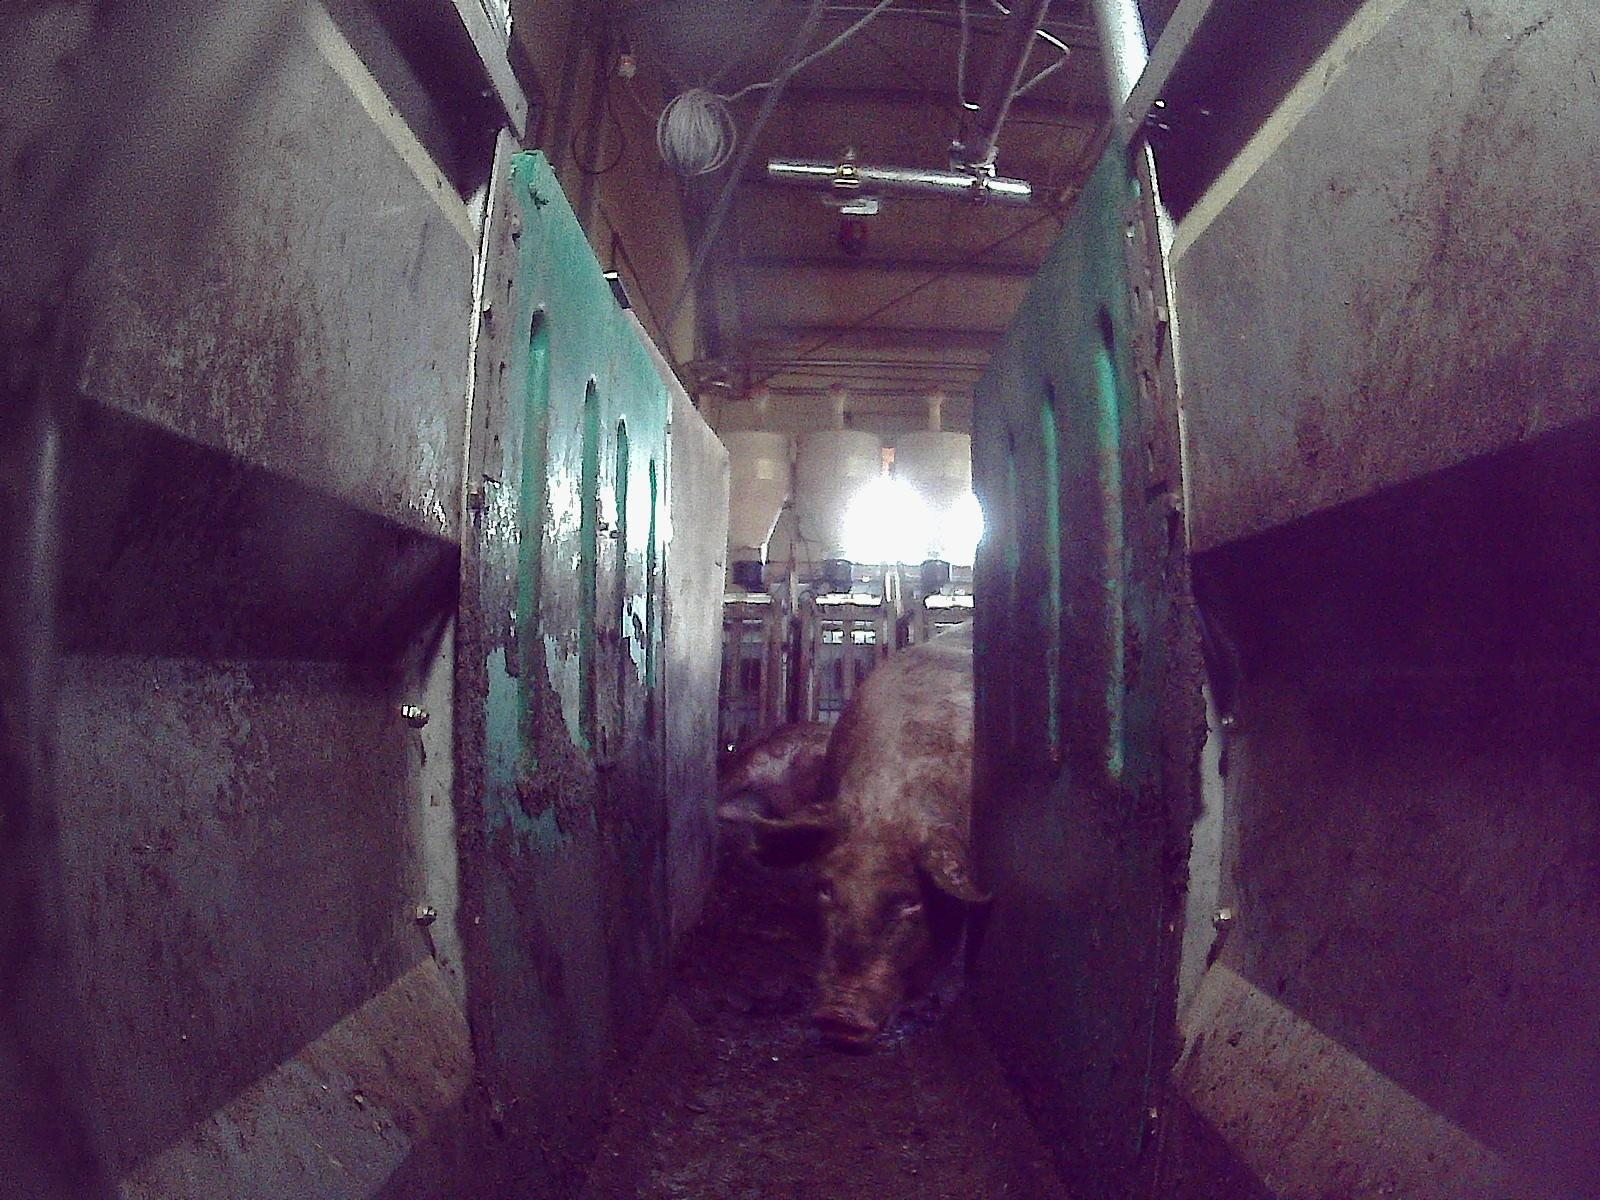Face: (811, 807, 950, 1048)
